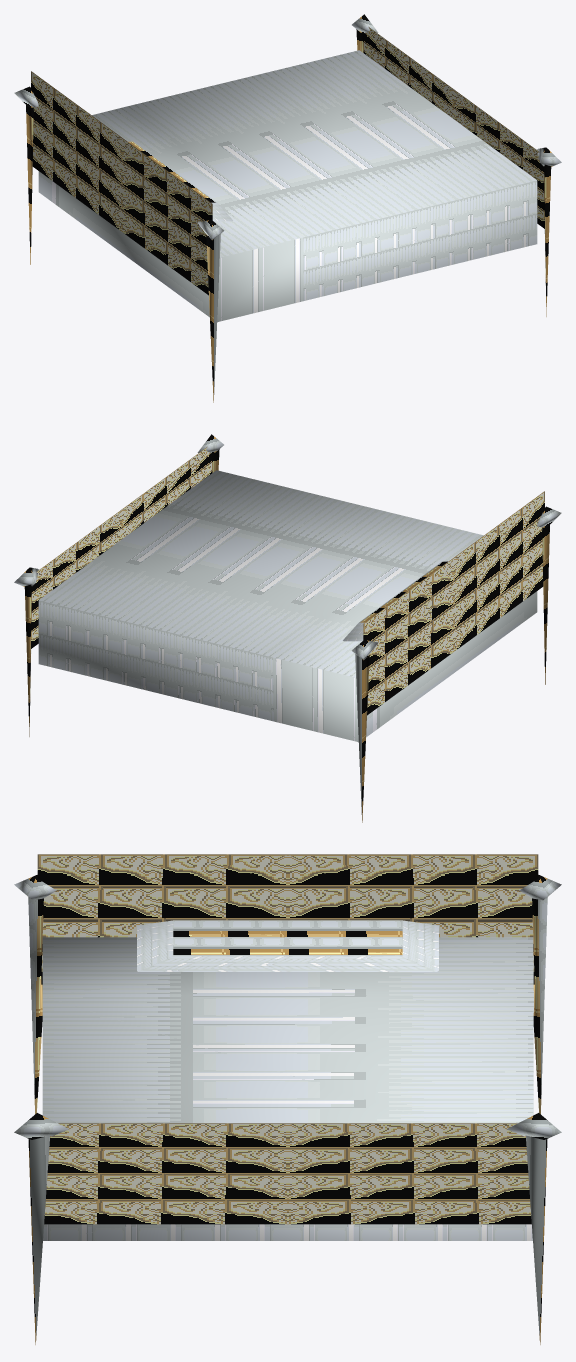
File: 3083IMRL06_01.gltf
3 views of the same model, one above another, from view 1: azimuth 30°, elevation 25°; view 2: azimuth 150°, elevation 25°; view 3: azimuth 270°, elevation 25° (orthographic). The views are drawn at different scales.
Visible parts, largest first — view 1: 3083IMRL06_01; view 2: 3083IMRL06_01; view 3: 3083IMRL06_01.
Boxes of the visible parts, x1,y1,x2,y2 form: 3083IMRL06_01: [14, 14, 561, 402]; 3083IMRL06_01: [14, 434, 561, 822]; 3083IMRL06_01: [14, 854, 561, 1344].
Bounding box in the file's own units: 1.98 × 1.09 × 1.95.
Materials: 3 (3 with a texture image).
